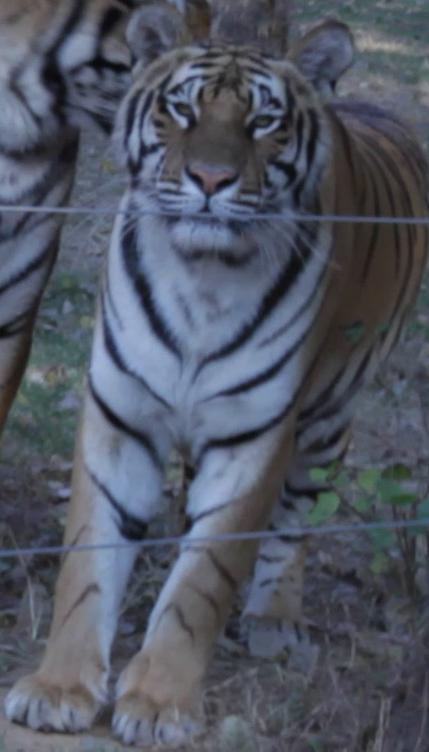tiger: (6, 0, 428, 744)
